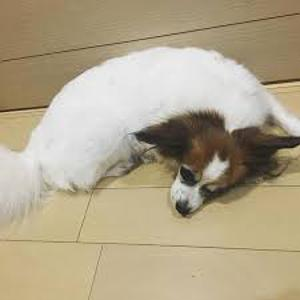yell: (0, 47, 299, 228)
